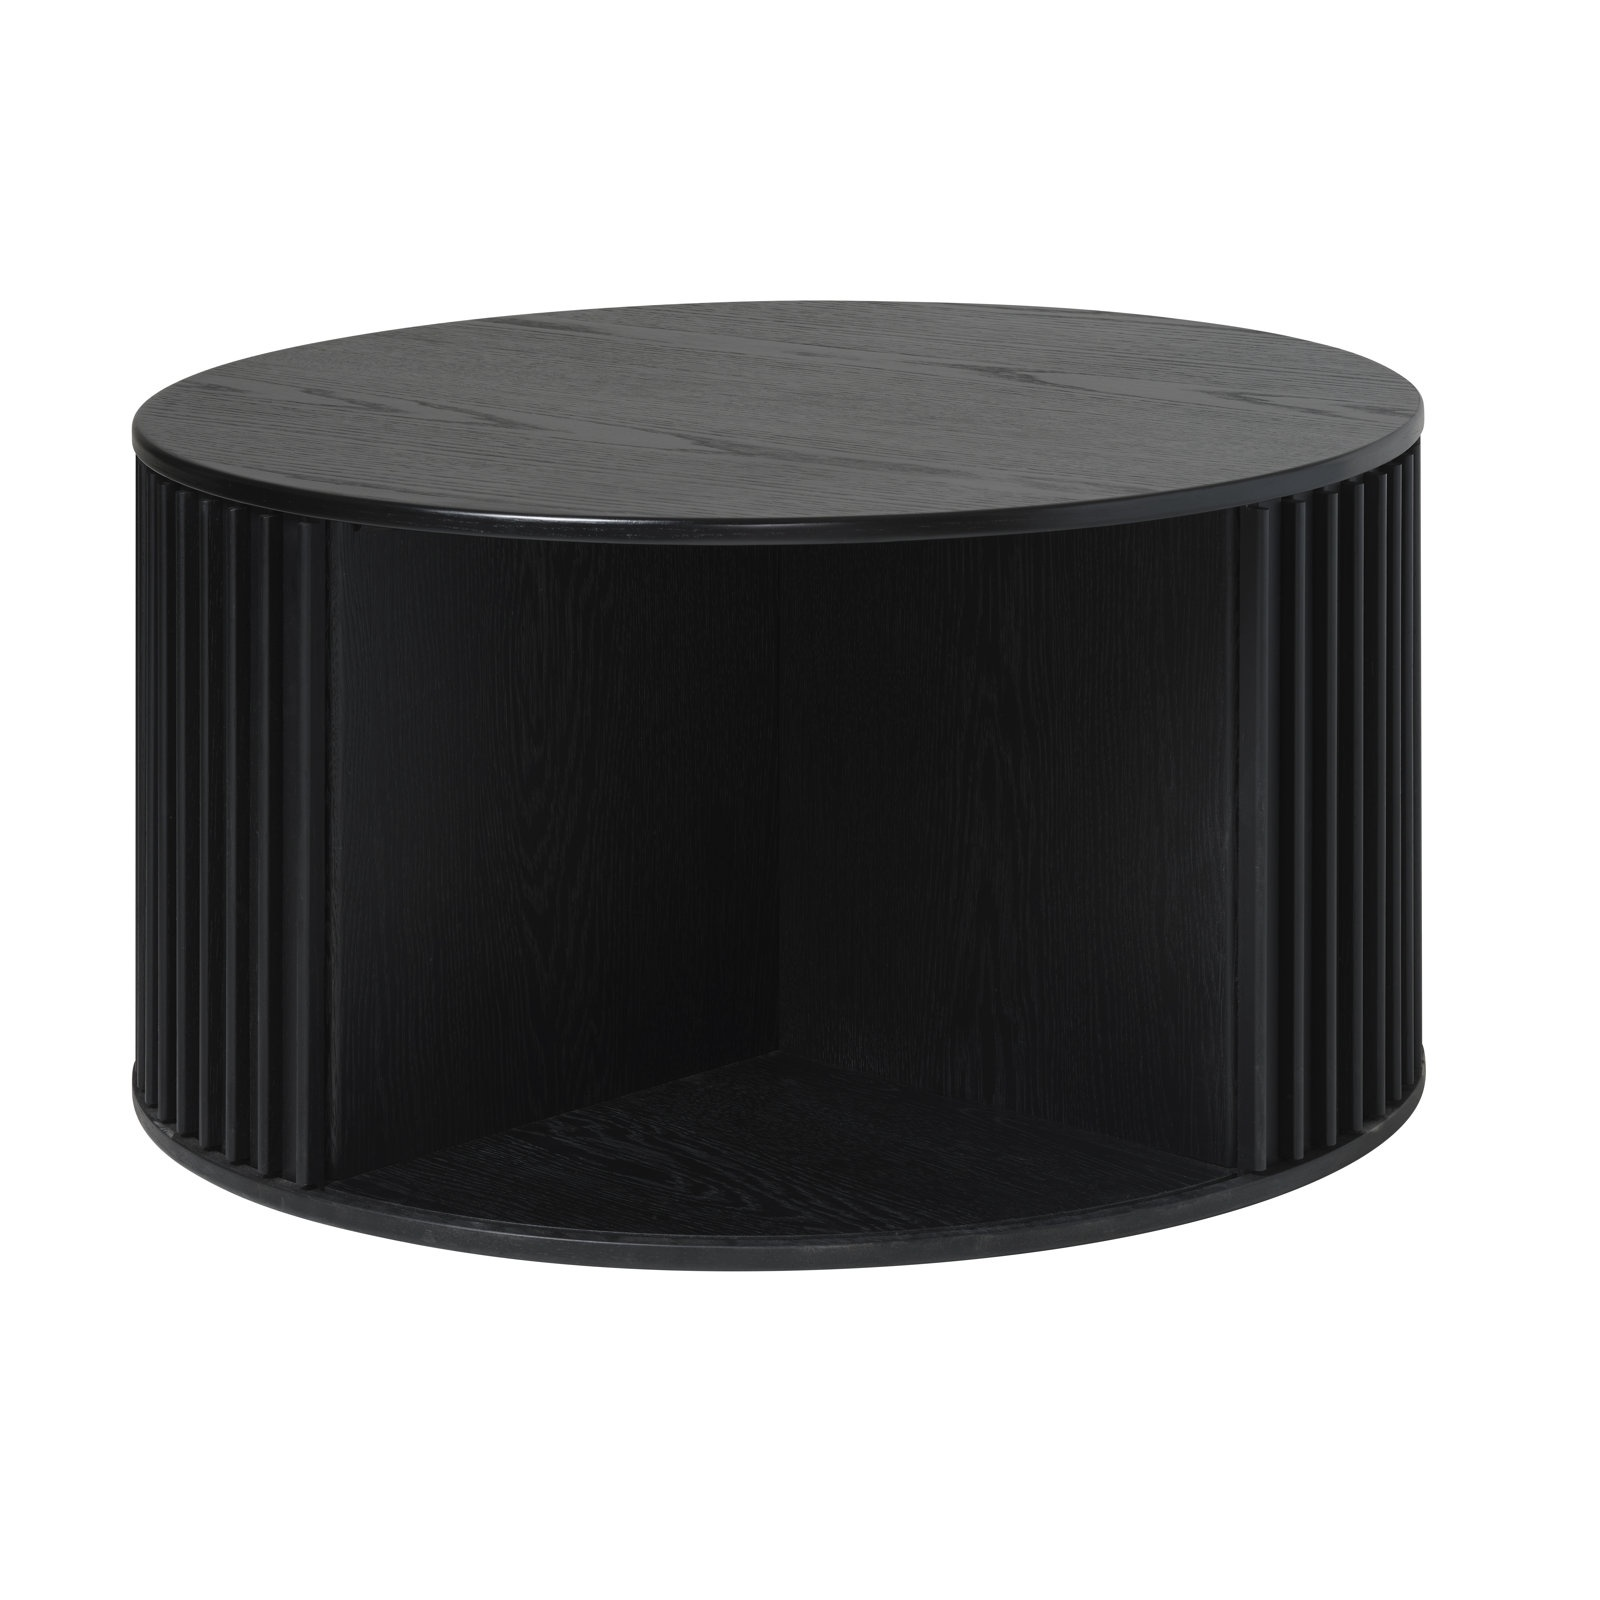obstacle: (135, 303, 1421, 1266)
